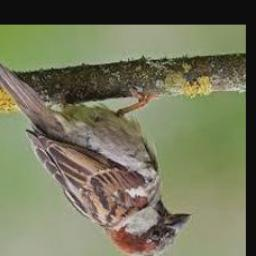Sparrow: (0, 61, 192, 256)
